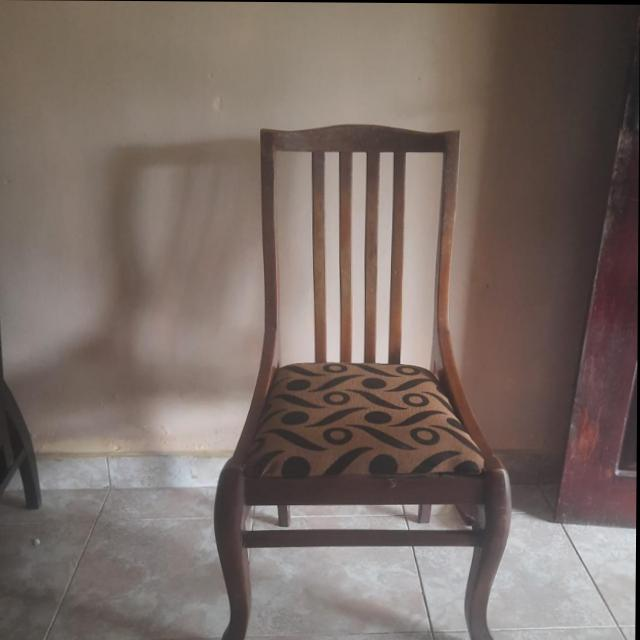Chair: (212, 122, 515, 640)
